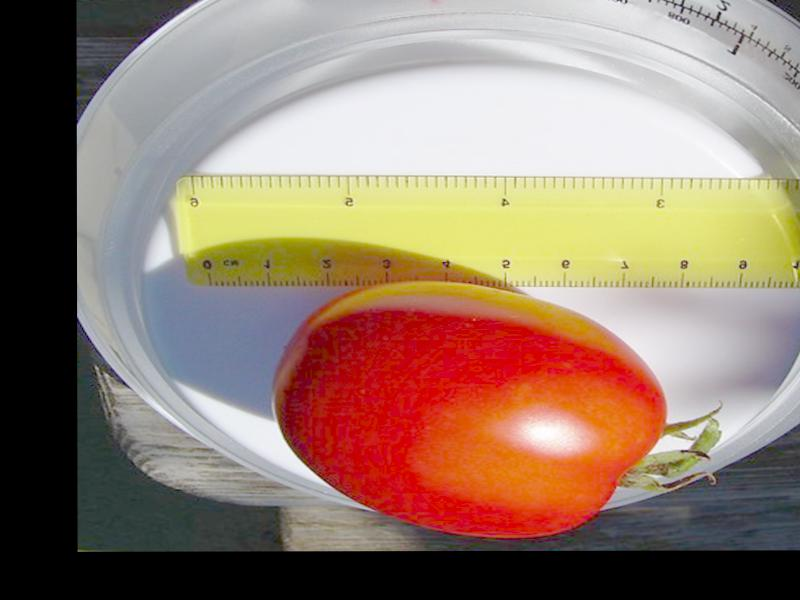Tomato: (275, 274, 669, 540)
